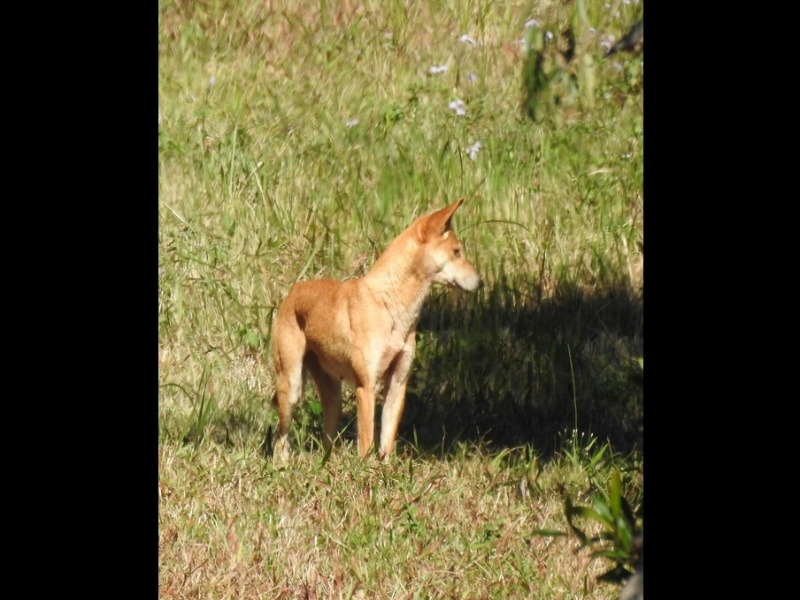dog: (262, 197, 486, 473)
